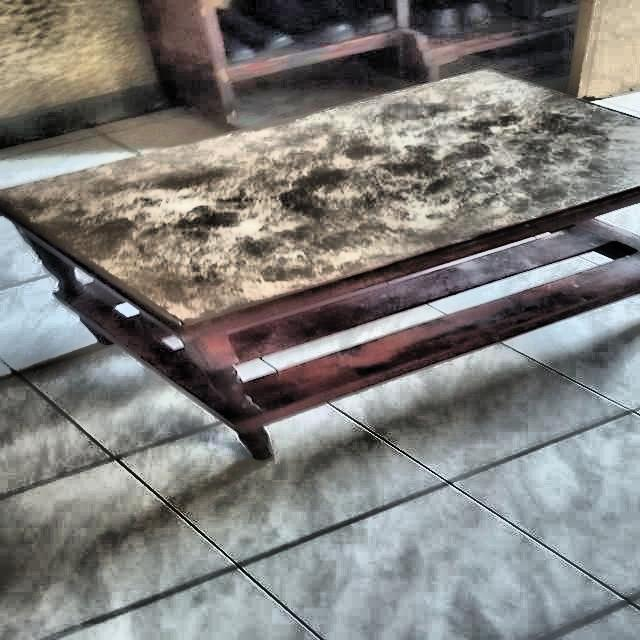mesa: (0, 66, 640, 467)
